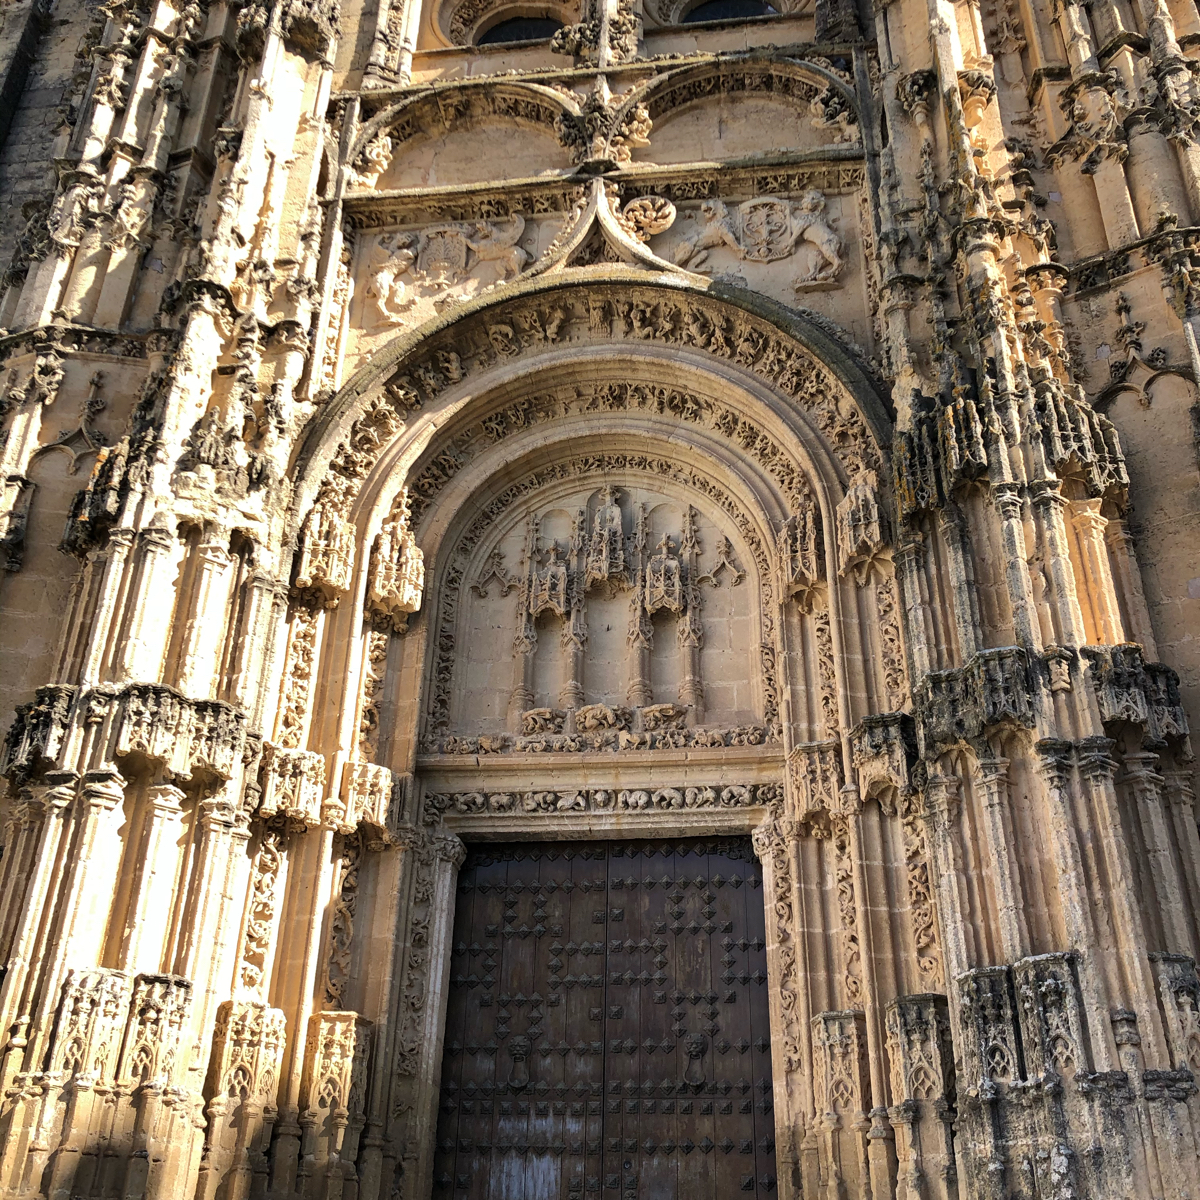arco-conopial: (402, 180, 832, 352)
